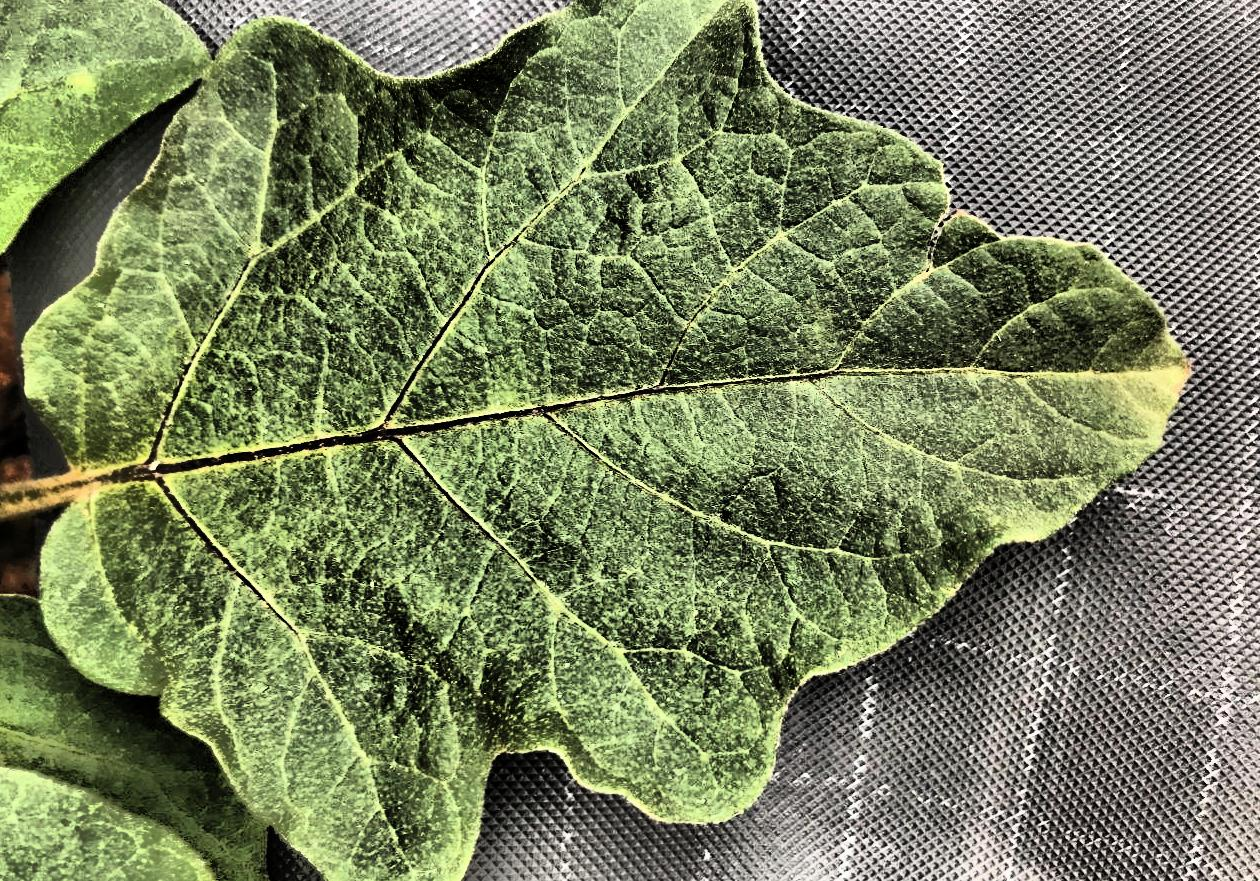HEALTHY: (0, 10, 940, 881)
